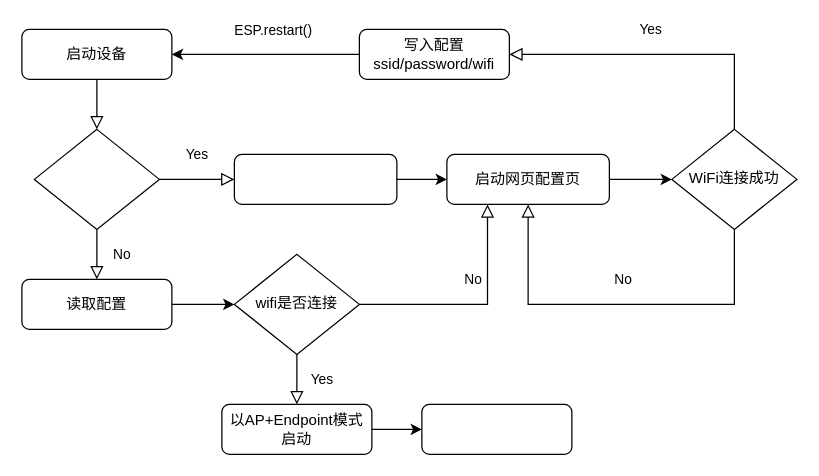
Some shapes in this 819 by 476 pixel diagram are drawn without their labels. Here are the shapes that lost their labels. From the top down, the centre of each, then its label:
point 96,178: 是否首次启动
point 315,178: 初始化、创建配置文件
point 496,428: 启动相关服务
